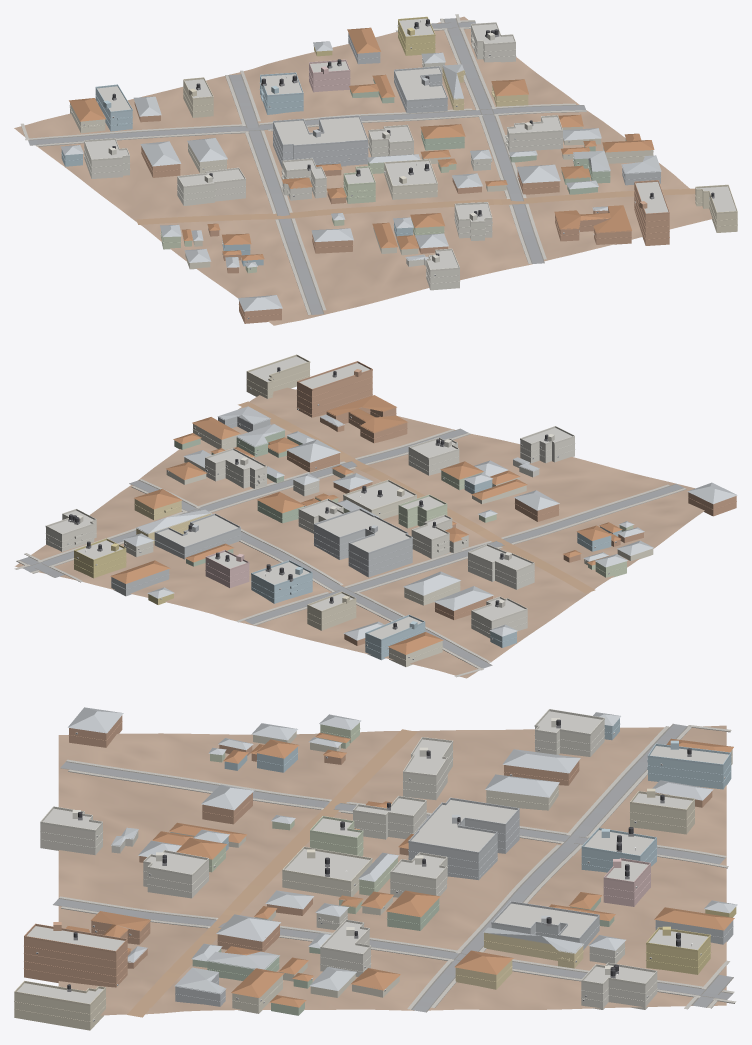
3 views of the same model, one above another, from view 1: azimuth 30°, elevation 25°; view 2: azimuth 150°, elevation 25°; view 3: azimuth 270°, elevation 25° (orthographic). The views are drawn at different scales.
Visible parts, largest first — view 1: Buildings-col, Terrain-col, Roads-col, Details, Sidewalks-col; view 2: Buildings-col, Terrain-col, Details, Roads-col, Sidewalks-col; view 3: Buildings-col, Terrain-col, Roads-col, Details, Sidewalks-col.
Part boxes in pixels (x1,y1,x2,y2): Buildings-col: [60, 18, 737, 323]; Terrain-col: [14, 16, 712, 325]; Roads-col: [28, 18, 695, 314]; Details: [61, 16, 737, 318]; Sidewalks-col: [21, 14, 586, 314]; Buildings-col: [46, 356, 737, 666]; Terrain-col: [15, 387, 704, 678]; Details: [45, 354, 736, 660]; Roads-col: [19, 401, 683, 668]; Sidewalks-col: [14, 429, 686, 677]; Buildings-col: [14, 707, 737, 1030]; Terrain-col: [58, 725, 726, 1015]; Roads-col: [53, 723, 733, 1017]; Details: [14, 709, 733, 1022]; Sidewalks-col: [59, 725, 736, 1009].
Bounding box in the file's own units: 277 × 19.91 × 277.
